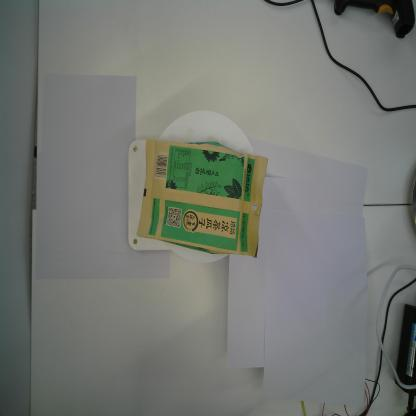Dried Food: (135, 135, 269, 264)
